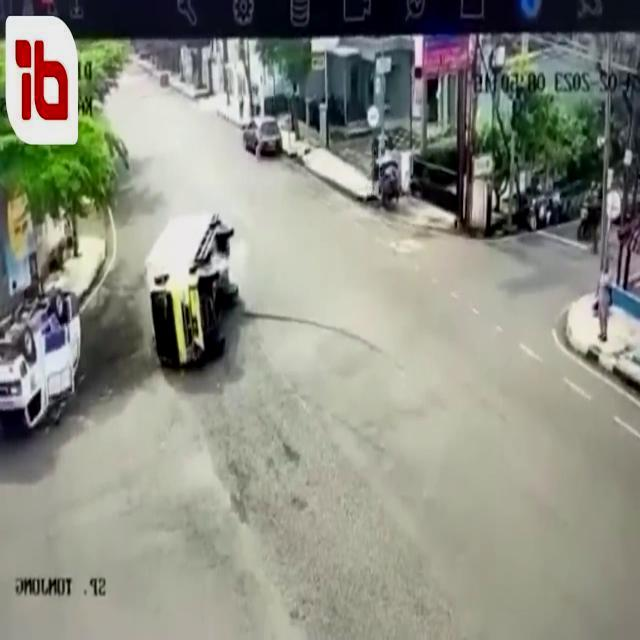accident: (149, 211, 231, 369), (0, 284, 80, 430)
